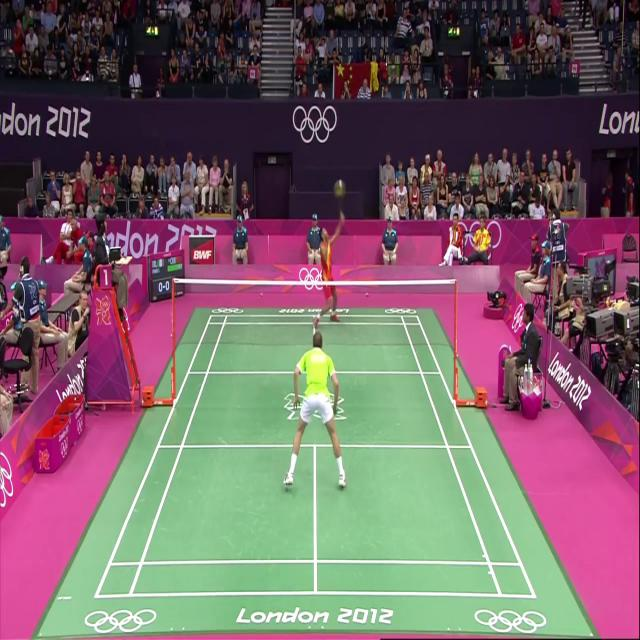Net: (172, 278, 461, 347)
Player1: (284, 327, 350, 502)
Player2: (311, 213, 347, 330)
Shuttlecock: (336, 179, 346, 195)
